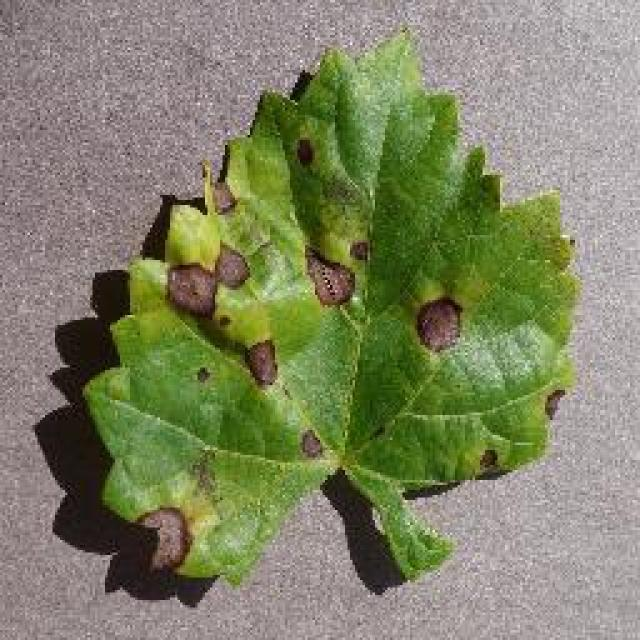Grape___Black_rot: (79, 25, 585, 591)
